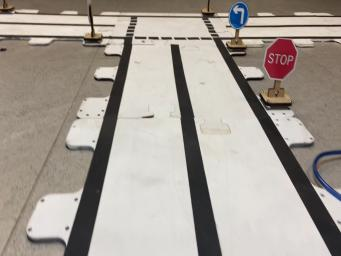left: (226, 2, 249, 52), (226, 2, 249, 52), (226, 2, 249, 52), (226, 2, 249, 52), (226, 2, 249, 52), (226, 2, 249, 52)
stop: (260, 38, 298, 105), (260, 38, 298, 105), (260, 38, 298, 105), (260, 38, 298, 105), (260, 38, 298, 105), (260, 38, 298, 105)
street: (65, 14, 341, 255), (65, 14, 341, 255), (65, 14, 341, 255), (65, 14, 341, 255), (65, 14, 341, 255), (65, 14, 341, 255), (240, 16, 341, 40), (240, 16, 341, 40), (240, 16, 341, 40), (240, 16, 341, 40), (240, 16, 341, 40), (240, 16, 341, 40), (0, 14, 90, 38), (0, 14, 90, 38), (0, 14, 90, 38), (0, 14, 90, 38), (0, 14, 90, 38), (0, 14, 90, 38)
